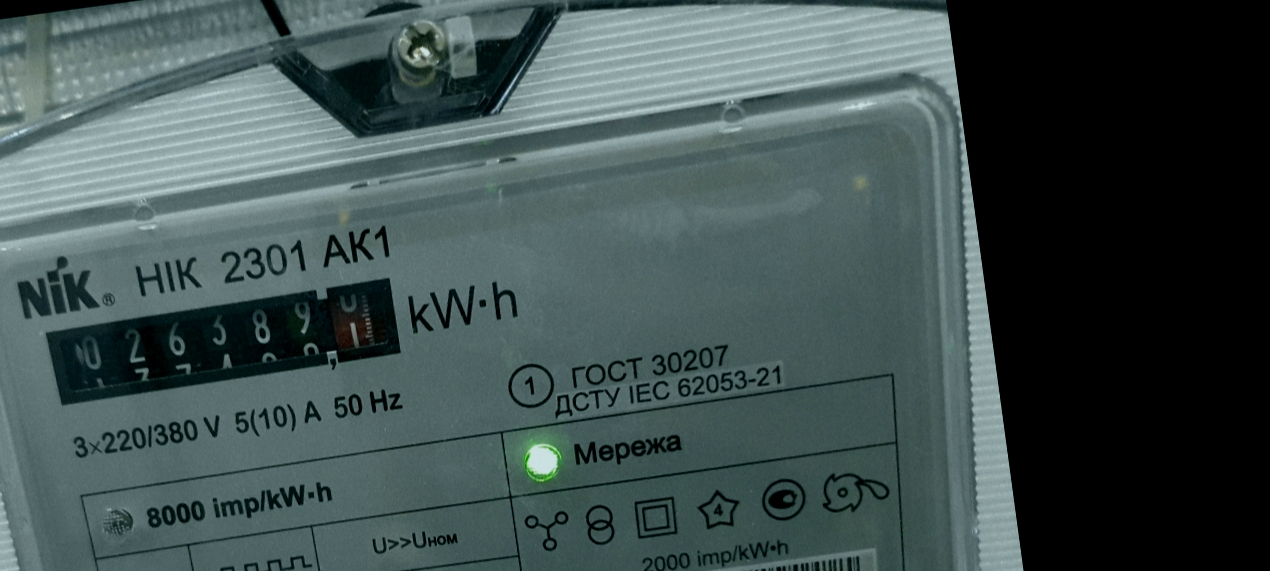0: (76, 330, 104, 372), (337, 290, 358, 313)
1: (345, 317, 361, 350)
2: (119, 323, 148, 365)
3: (206, 311, 227, 348)
6: (163, 317, 186, 358)
8: (248, 305, 273, 345)
9: (290, 298, 313, 334)
screen: (28, 263, 417, 418)
